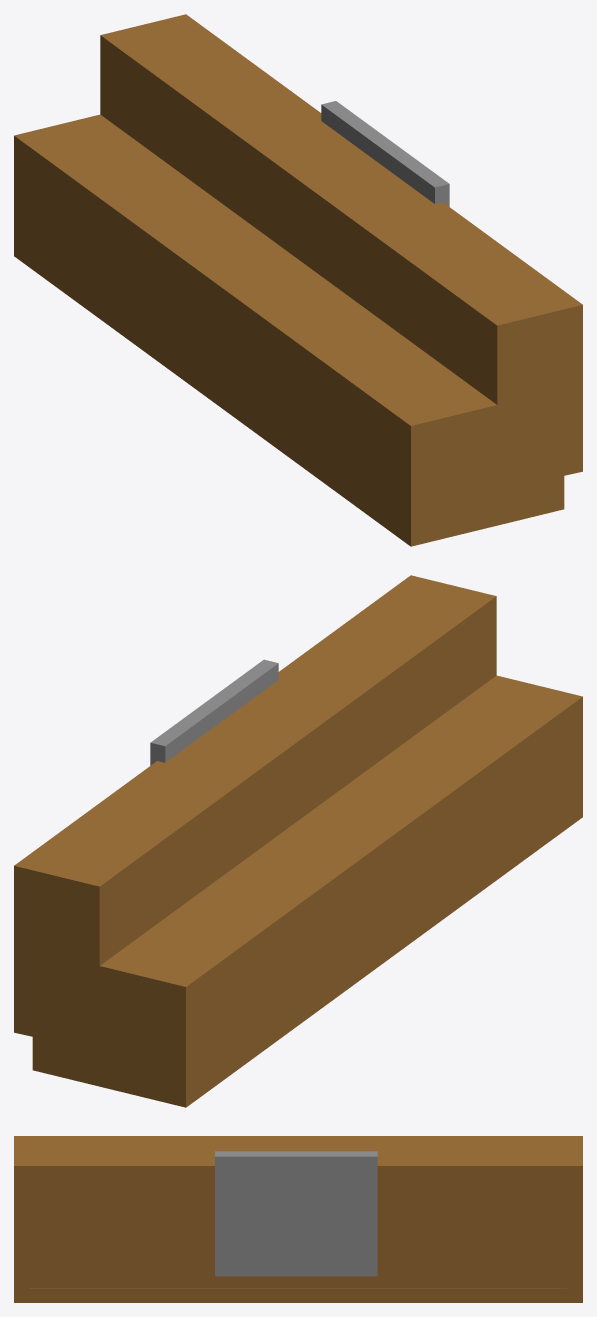
The model's file is mejaresp_ruangan1.fbx.
3 renders of one model, top to bottom at view 1: azimuth 30°, elevation 25°; view 2: azimuth 150°, elevation 25°; view 3: azimuth 270°, elevation 25°, orthographic. The views are drawn at different scales.
Parts seen in each view (by area): view 1: pCube6, pCube600; view 2: pCube6, pCube600; view 3: pCube6, pCube600.
Part boxes in pixels (x1,y1,x2,y2): pCube6: (14, 14, 582, 546); pCube600: (321, 101, 449, 206); pCube6: (14, 575, 582, 1107); pCube600: (150, 659, 278, 765); pCube6: (14, 1136, 582, 1302); pCube600: (215, 1151, 377, 1276).
Bounding box in the file's own units: 1.56 × 1.81 × 6.
